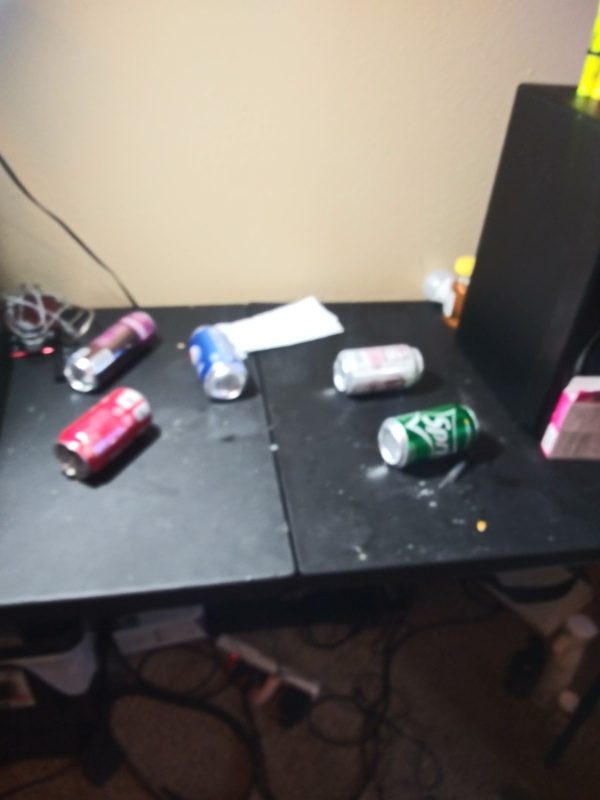can: (52, 385, 156, 487), (63, 308, 161, 397), (375, 401, 484, 466), (330, 336, 430, 399), (184, 323, 253, 401)
